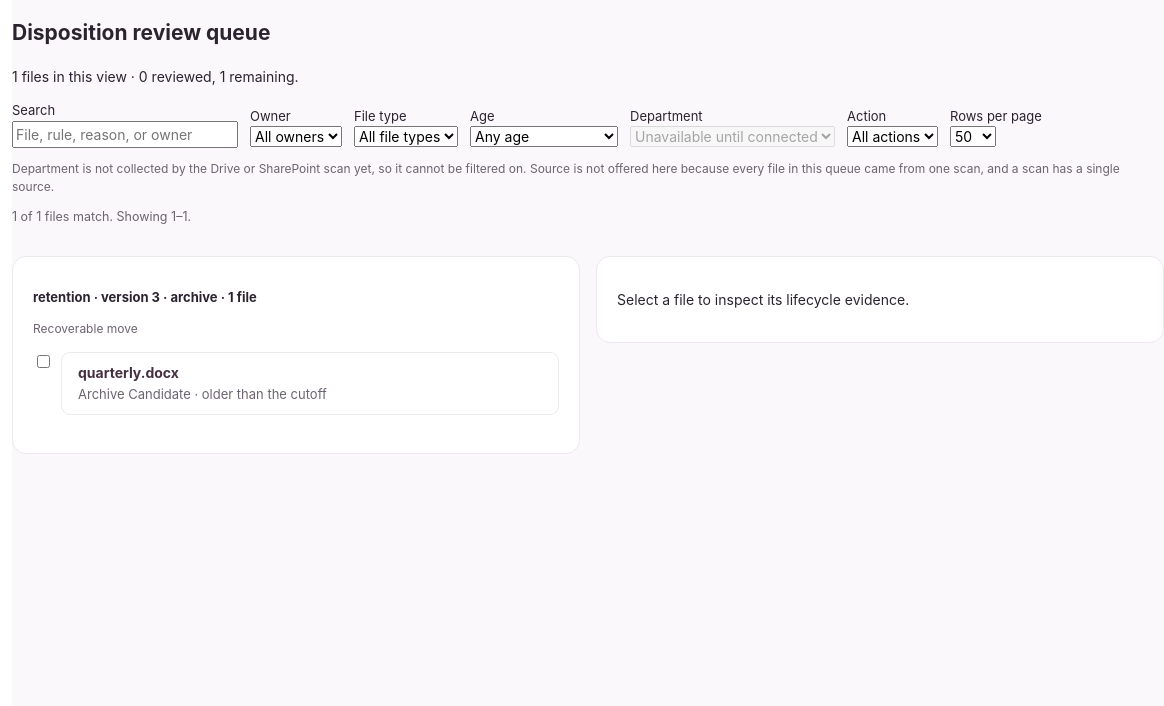
Test: the queue asks for detail and history together › shows the timeline when a file is opened
Step 1. Click the button → (310, 383), box [61,352,559,415]
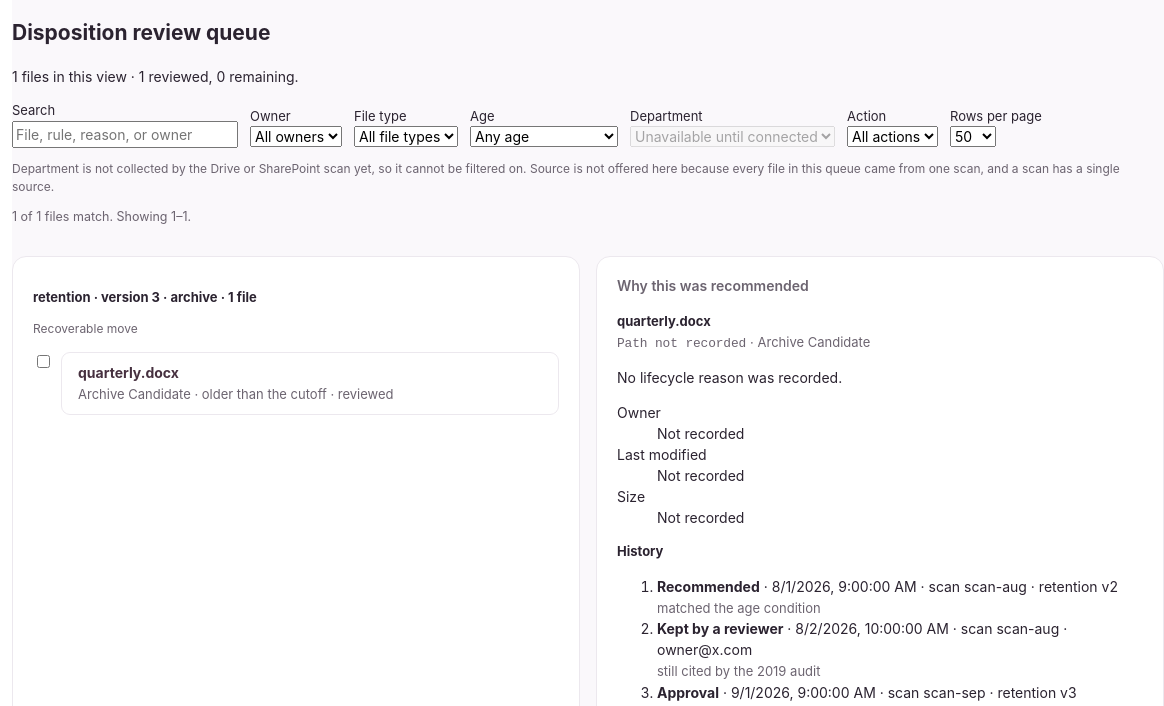
Check: the text "Kept by a reviewer" is shown, box [657,620,783,637]
